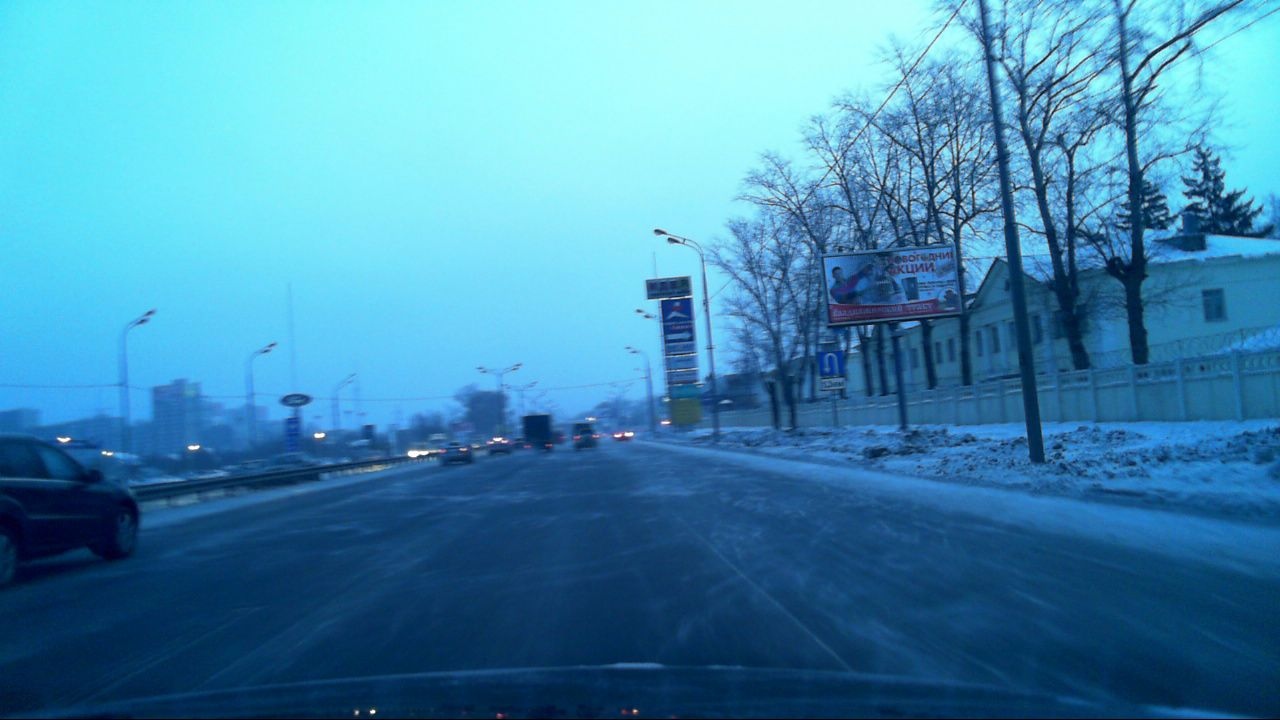U-turn: (818, 351, 843, 377)
